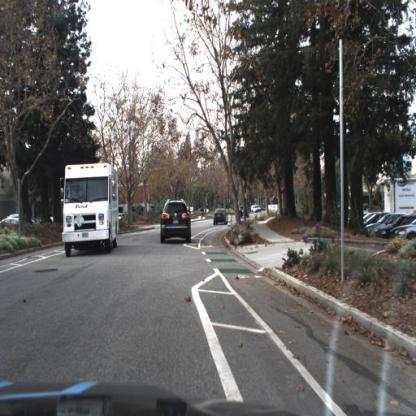car: (159, 198, 195, 245), (368, 221, 389, 237), (214, 207, 229, 227), (377, 225, 394, 238), (252, 203, 262, 214), (240, 207, 249, 218)
truck: (59, 162, 121, 263)
